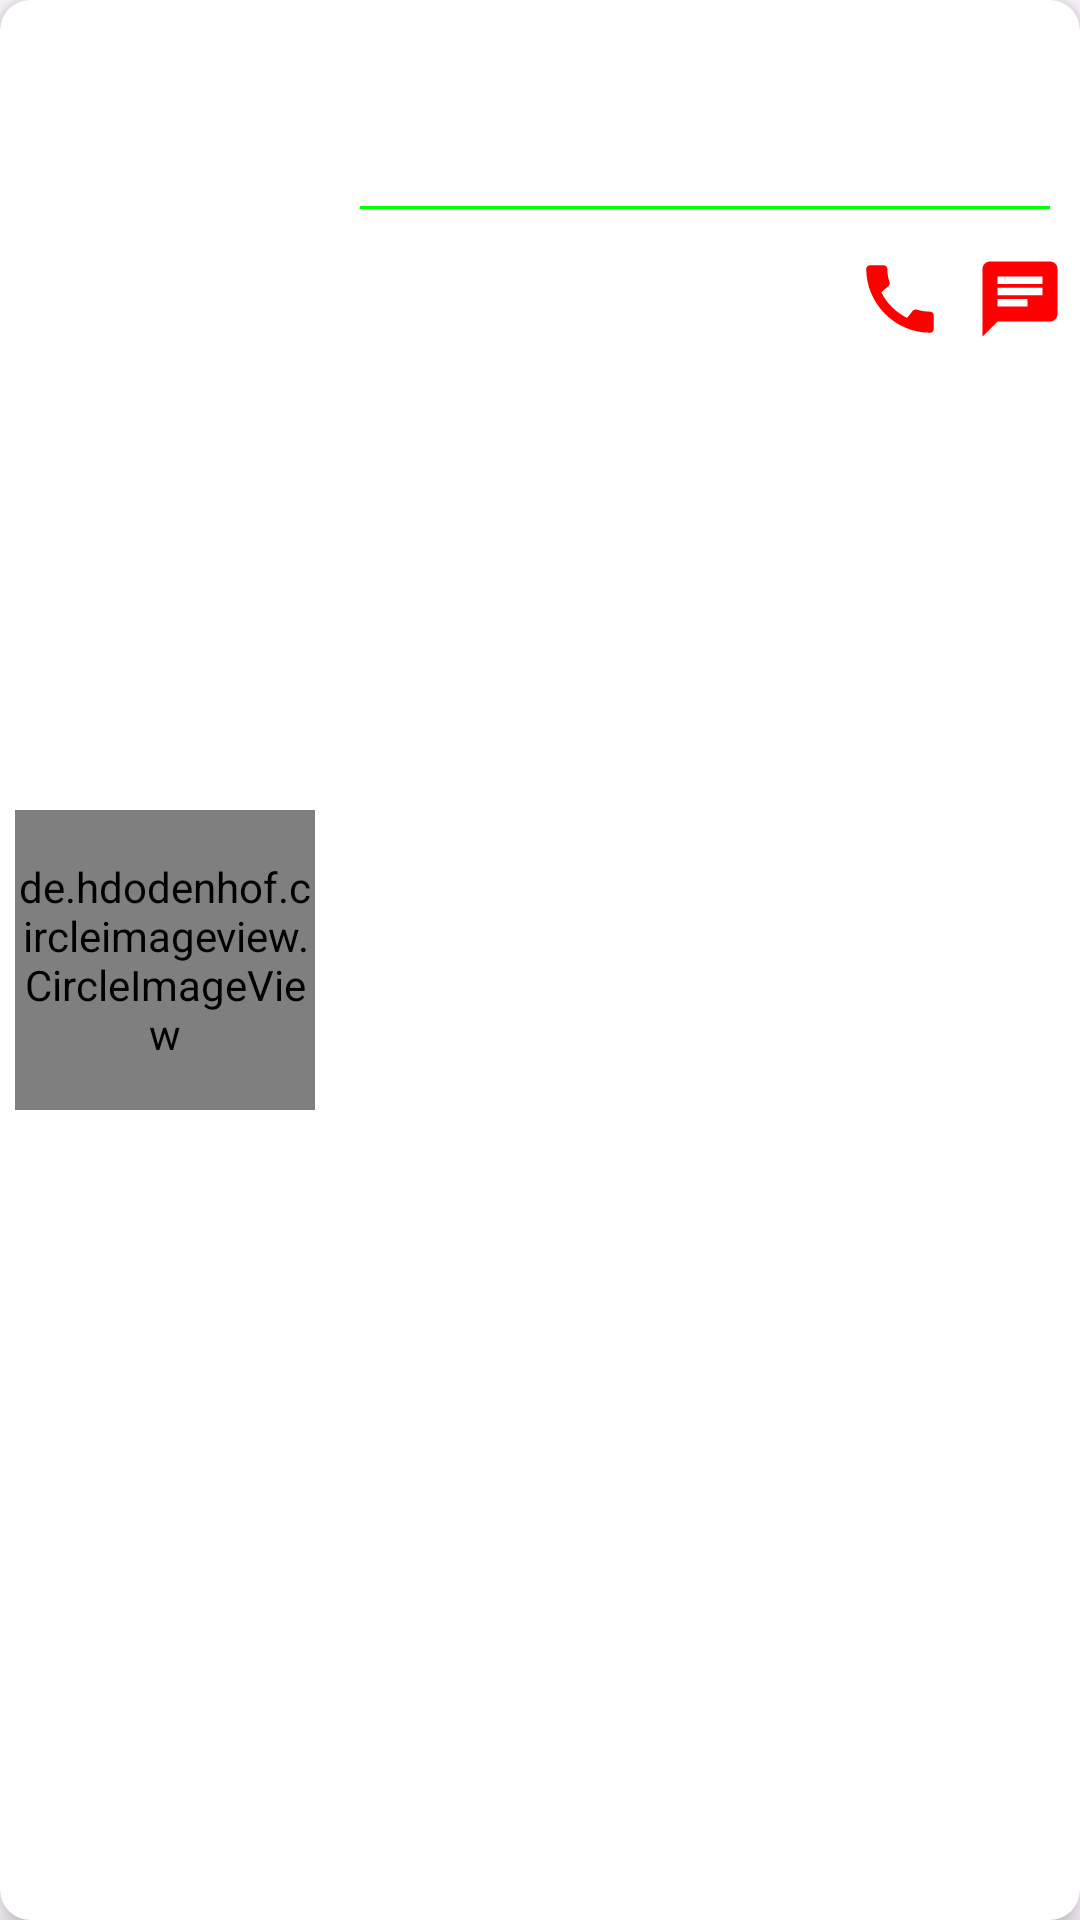

Point at icon controls on the screen. Image size 1080px×1920px, points as (x=x, y=y).
Call: (x=900, y=299)
Chat: (x=1020, y=299)
